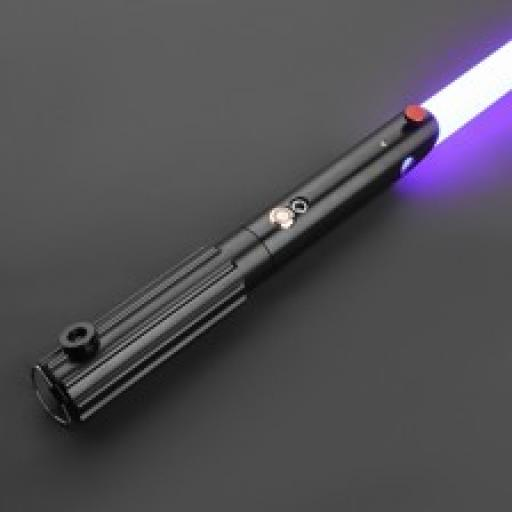lightsaber: (20, 34, 512, 429)
